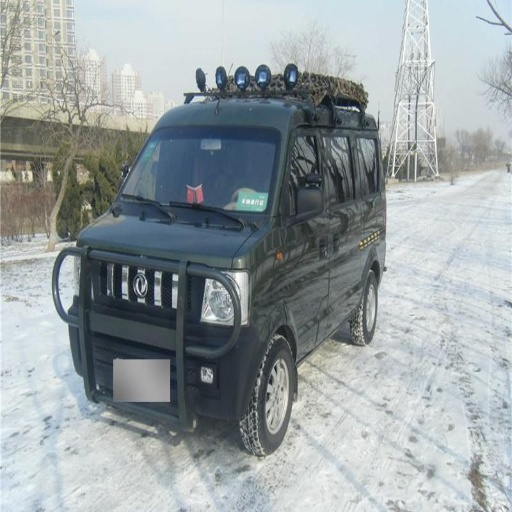front_bumper: (85, 250, 211, 333), (194, 325, 248, 391)
front_glass: (114, 126, 283, 215)
front_left_door: (283, 127, 333, 349)
